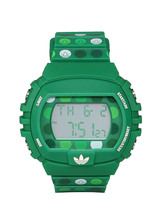watch: (16, 26, 140, 195)
